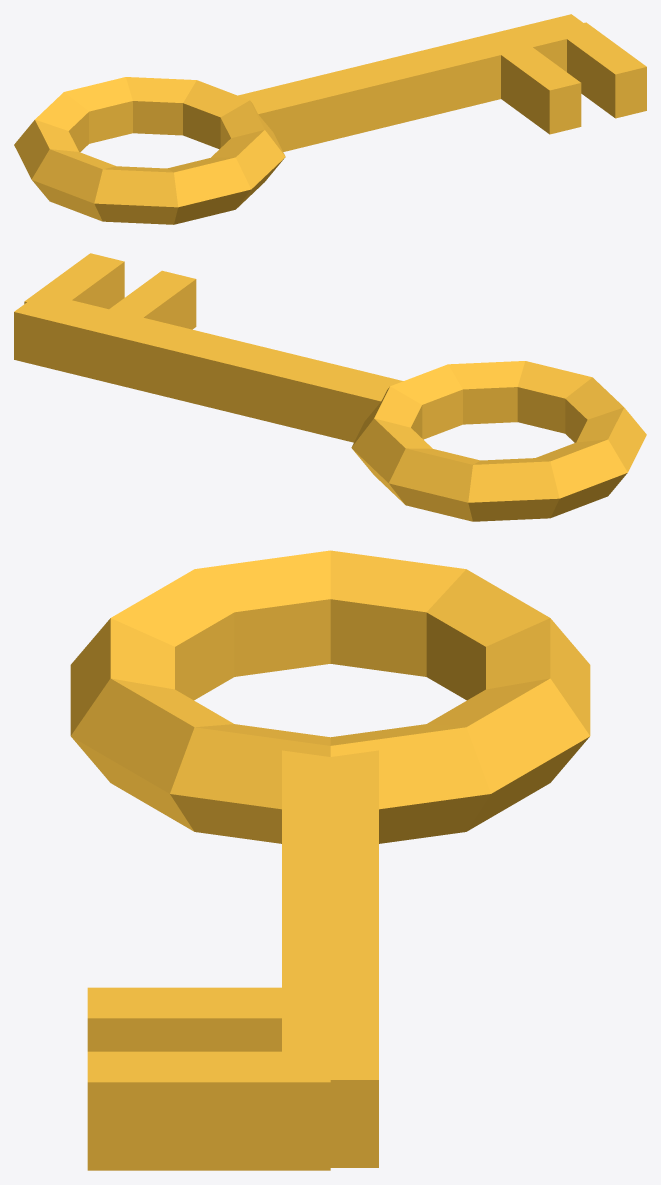
The model's file is cell_key.glb.
3 views of the same model, one above another, from view 1: azimuth 30°, elevation 25°; view 2: azimuth 150°, elevation 25°; view 3: azimuth 270°, elevation 25° (orthographic). The views are drawn at different scales.
Parts seen in each view (by area): view 1: key_key_brass; view 2: key_key_brass; view 3: key_key_brass.
Boxes of the visible parts, x1,y1,x2,y2 form: key_key_brass: (14, 14, 646, 224); key_key_brass: (14, 253, 646, 521); key_key_brass: (70, 550, 590, 1170).
Size of the model in its own units: 0.211 by 0.019 by 0.0856.
